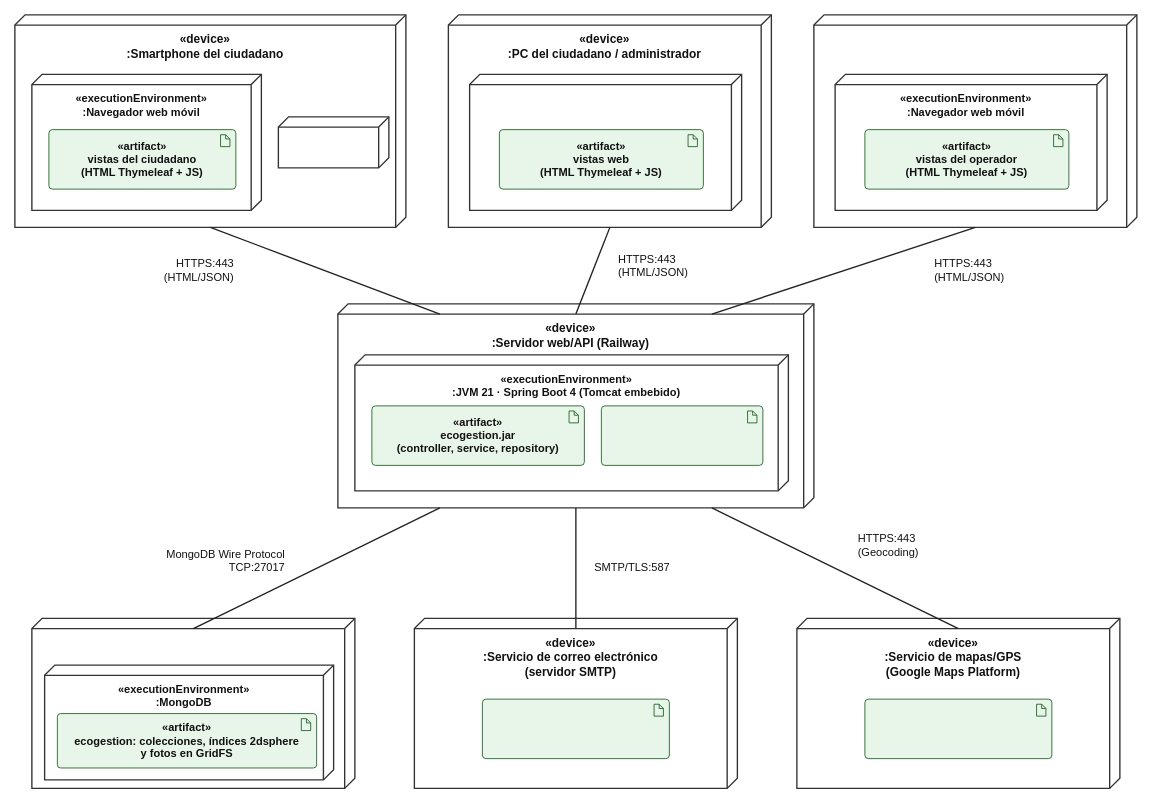
The diagram is 1153 pixels wide and 804 high, and some of its shapes have lost their labels. The shapes that lost their labels are listed below. From the top down, each one's box as (x1, y1, x2, y2) in pixels, then its label:
(813, 14, 1137, 228): «device» :Smartphone del operador
(277, 116, 389, 168): «device» :Sensor GPS
(469, 73, 742, 211): «executionEnvironment» :Navegador web
(601, 405, 763, 465): «artifact» templates/ (vistas Thymeleaf)
(31, 617, 355, 789): «device» :Servidor de base de datos (Railway)
(482, 698, 669, 759): «artifact» relay SMTP
(864, 698, 1052, 759): «artifact» Maps JavaScript API + Geocoding API
